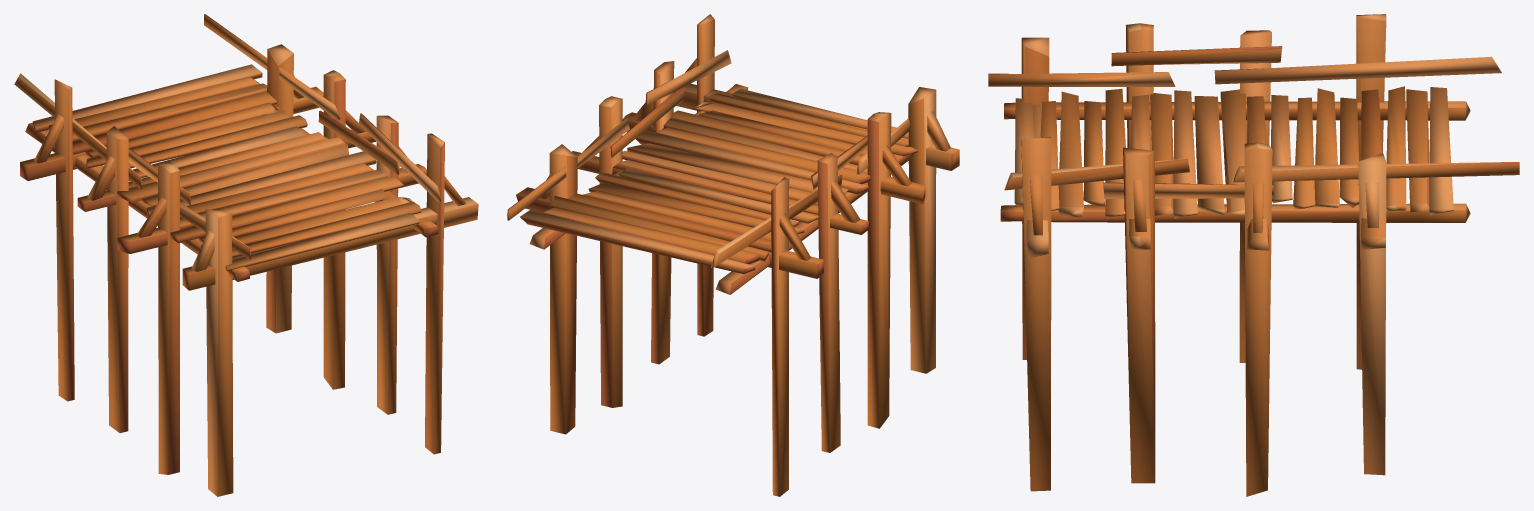
The model's file is GL-Manmade-05.fbx.
3 views of the same model, side by side, from view 1: azimuth 30°, elevation 25°; view 2: azimuth 150°, elevation 25°; view 3: azimuth 270°, elevation 25° (orthographic). The views are drawn at different scales.
Parts seen in each view (by area): view 1: GL-Manmade-05; view 2: GL-Manmade-05; view 3: GL-Manmade-05.
Boxes of the visible parts, x1,y1,x2,y2 form: GL-Manmade-05: (14, 14, 478, 496); GL-Manmade-05: (507, 14, 959, 496); GL-Manmade-05: (988, 14, 1519, 496).
Size of the model in its own units: 1.25 by 1.23 by 1.66.
